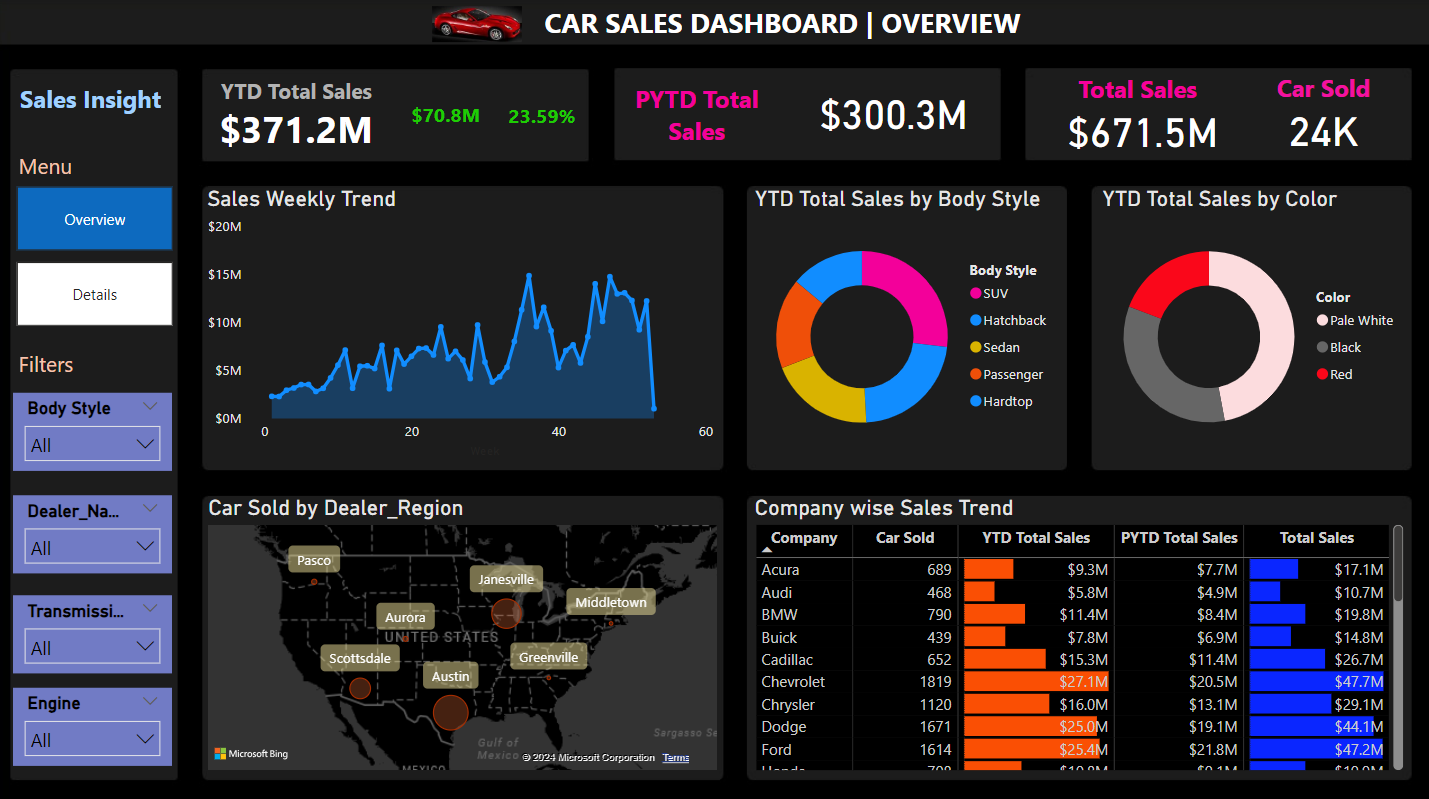

Layout of this report page (visuals, bound fields, positions):
{"tool":"powerbi","page":{"name":"Overview","canvas":[1280,720],"ordinal":0},"visuals":[{"type":"card","title":"YTD Total Sales","fields":{"Values":["car_data.YTD Total Sales"]},"box":[174.6,68.7,190.9,68.7],"z":0},{"type":"card","fields":{"Values":["car_data.YOY Sales Growth"]},"box":[441.9,83.9,94.4,44.3],"z":1000},{"type":"areaChart","title":"Sales Weekly Trend","fields":{"Y":["Sum(car_data.Price ($))"],"Category":["Calender Table.Week"]},"box":[185.5,167.2,463.8,246.5],"z":2000},{"type":"donutChart","fields":{"Category":["car_data.Body Style"],"Y":["car_data.YTD Total Sales"]},"box":[673.3,167.4,279.1,246.5],"z":3000},{"type":"donutChart","fields":{"Y":["car_data.YTD Total Sales"],"Category":["car_data.Color"]},"box":[982.5,167.2,278.3,246.5],"z":4000},{"type":"card","fields":{"Values":["car_data.Sales Difference"]},"box":[354.5,83.9,99.1,43.1],"z":5000},{"type":"tableEx","title":"Company wise Sales Trend","fields":{"Values":["car_data.Company","Measure Table.Car Sold","Measure Table.YTD Total Sales","Measure Table.PYTD Total Sales","Measure Table.Total Sales"]},"box":[673.3,441.9,587.2,250],"z":6000},{"type":"textbox","box":[454.1,0,497.6,44.7],"z":7000},{"type":"slicer","fields":{"Values":["car_data.Body Style"]},"box":[18.3,350.3,141.6,69.6],"z":8000},{"type":"slicer","fields":{"Values":["car_data.Dealer_Name"]},"box":[18.3,441.8,141.6,69.6],"z":9000},{"type":"slicer","fields":{"Values":["car_data.Transmission"]},"box":[18.3,530.9,141.6,69.6],"z":10000},{"type":"slicer","fields":{"Values":["car_data.Engine"]},"box":[18.3,613.9,141.6,69.6],"z":11000},{"type":"textbox","box":[18.3,307.6,111.1,42.7],"z":12000},{"type":"textbox","box":[18.6,68.6,181.4,45.3],"z":13000},{"type":"pageNavigator","box":[20.7,167.2,139.1,124.5],"z":14000},{"type":"textbox","box":[18.3,131.8,86.7,35.4],"z":15000},{"type":"card","fields":{"Values":["Measure Table.Total Sales"]},"box":[911.6,75.6,224.4,80.2],"z":16000},{"type":"textbox","box":[951.2,60.5,137.2,39.5],"z":17000},{"type":"card","fields":{"Values":["Measure Table.Car Sold"]},"box":[1119.8,84.9,130.2,60.5],"z":18000},{"type":"textbox","box":[1119.8,59.3,130.2,40.7],"z":19000},{"type":"textbox","box":[550,68.6,153.5,72.1],"z":20000},{"type":"map","fields":{"Category":["car_data.Dealer_Region"],"Size":["Measure Table.Car Sold"]},"box":[186.6,441.9,462.9,249.5],"z":21000},{"type":"image","box":[386,0,89.5,44.2],"z":22000},{"type":"card","fields":{"Values":["Measure Table.PYTD Total Sales"]},"box":[722.1,69.8,159.3,60.5],"z":23000}]}

Visuals, with their boxes in screenshot pixels (x1, y1, x2, y2), scaled from the page's 1280x720 canvas onto the 1429x799 screenshot:
"YTD Total Sales" card: (left=195, top=76, right=408, bottom=152)
card - car_data.YOY Sales Growth: (left=493, top=93, right=599, bottom=142)
"Sales Weekly Trend" areaChart: (left=207, top=186, right=725, bottom=459)
donutChart - car_data.Body Style x car_data.YTD Total Sales: (left=752, top=186, right=1063, bottom=459)
donutChart - car_data.YTD Total Sales x car_data.Color: (left=1097, top=186, right=1408, bottom=459)
card - car_data.Sales Difference: (left=396, top=93, right=506, bottom=141)
"Company wise Sales Trend" tableEx: (left=752, top=490, right=1407, bottom=768)
textbox: (left=507, top=0, right=1062, bottom=50)
slicer - car_data.Body Style: (left=20, top=389, right=179, bottom=466)
slicer - car_data.Dealer_Name: (left=20, top=490, right=179, bottom=568)
slicer - car_data.Transmission: (left=20, top=589, right=179, bottom=666)
slicer - car_data.Engine: (left=20, top=681, right=179, bottom=758)
textbox: (left=20, top=341, right=144, bottom=389)
textbox: (left=21, top=76, right=223, bottom=126)
pageNavigator: (left=23, top=186, right=178, bottom=324)
textbox: (left=20, top=146, right=117, bottom=186)
card - Measure Table.Total Sales: (left=1018, top=84, right=1268, bottom=173)
textbox: (left=1062, top=67, right=1215, bottom=111)
card - Measure Table.Car Sold: (left=1250, top=94, right=1396, bottom=161)
textbox: (left=1250, top=66, right=1396, bottom=111)
textbox: (left=614, top=76, right=785, bottom=156)
map - car_data.Dealer_Region x Measure Table.Car Sold: (left=208, top=490, right=725, bottom=767)
image: (left=431, top=0, right=531, bottom=49)
card - Measure Table.PYTD Total Sales: (left=806, top=77, right=984, bottom=145)
